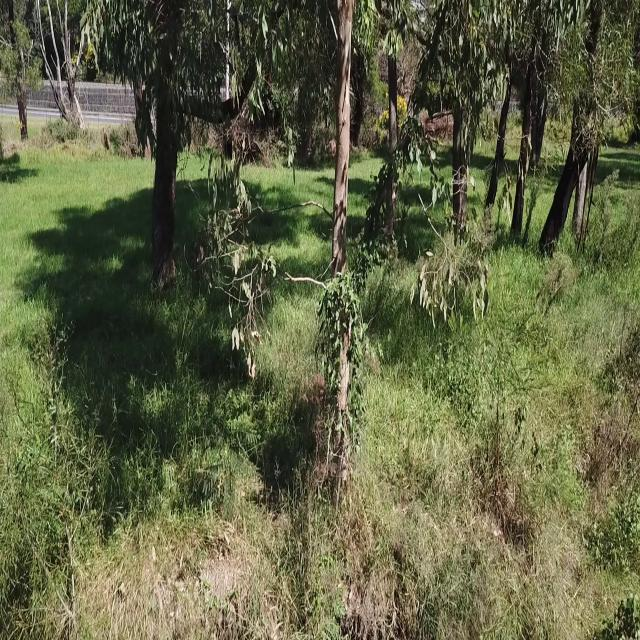Mysore-Thorn-Weed: (193, 402, 267, 538)
